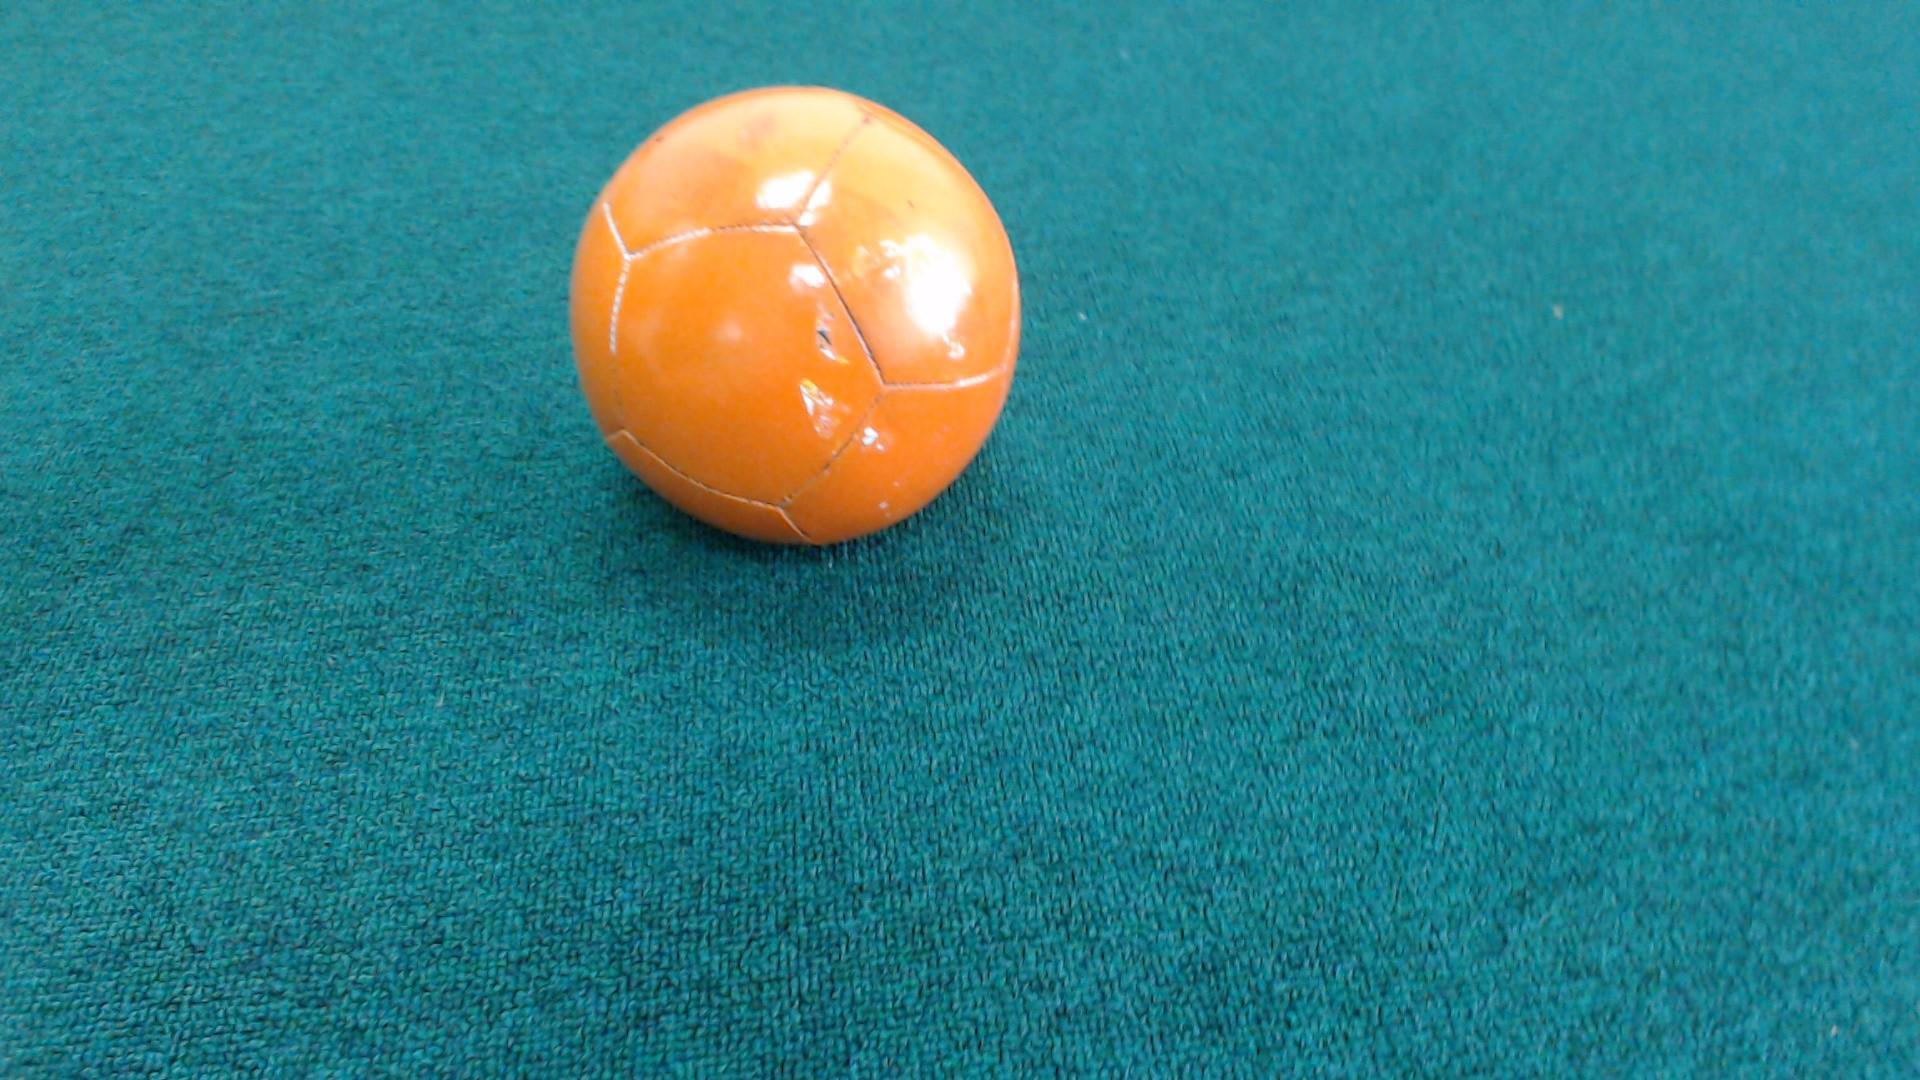bola: (543, 74, 1031, 579)
